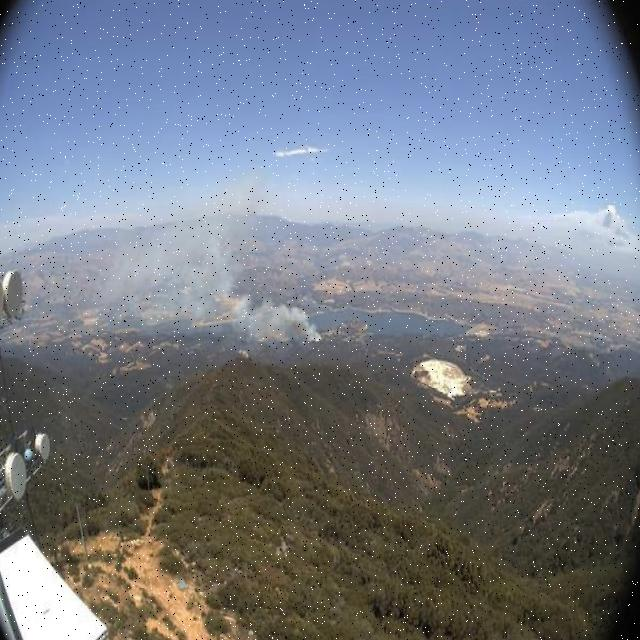smoke: (88, 170, 322, 347)
